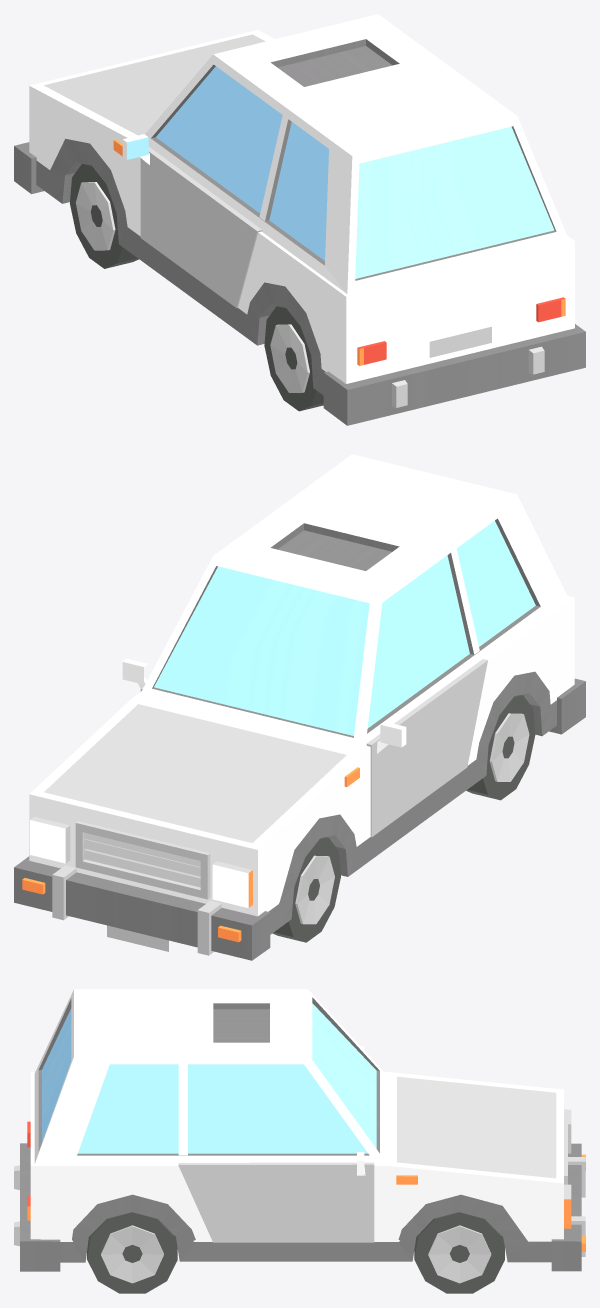
File: transport_old.012.glb
3 views of the same model, one above another, from view 1: azimuth 30°, elevation 25°; view 2: azimuth 150°, elevation 25°; view 3: azimuth 270°, elevation 25° (orthographic). The views are drawn at different scales.
Visible parts, largest first — view 1: transport_old.012(Clone); view 2: transport_old.012(Clone); view 3: transport_old.012(Clone).
Boxes of the visible parts, bbox=[...] form: transport_old.012(Clone): bbox=[14, 14, 585, 425]; transport_old.012(Clone): bbox=[14, 454, 585, 960]; transport_old.012(Clone): bbox=[14, 989, 585, 1293].
Size of the model in its own units: 1.48 by 1.36 by 3.11.
Materials: 1 (1 with a texture image).
